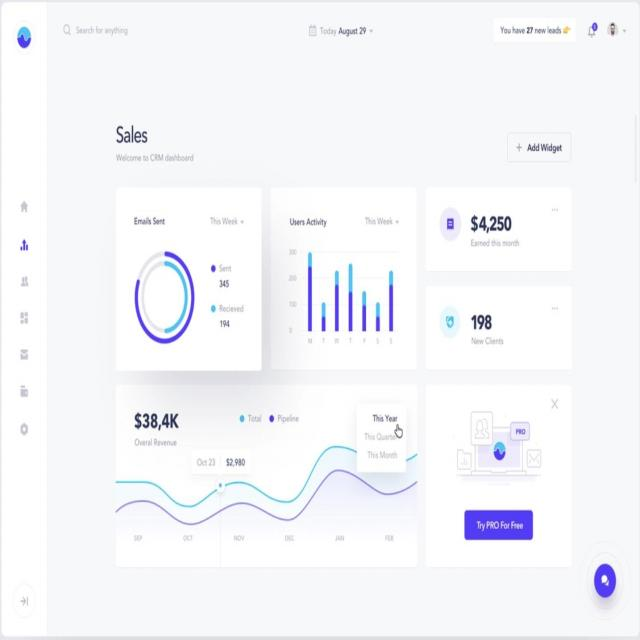button: (464, 509, 534, 542), (507, 130, 572, 165), (495, 17, 576, 44)
input: (58, 17, 134, 44)
select: (307, 18, 376, 44)
